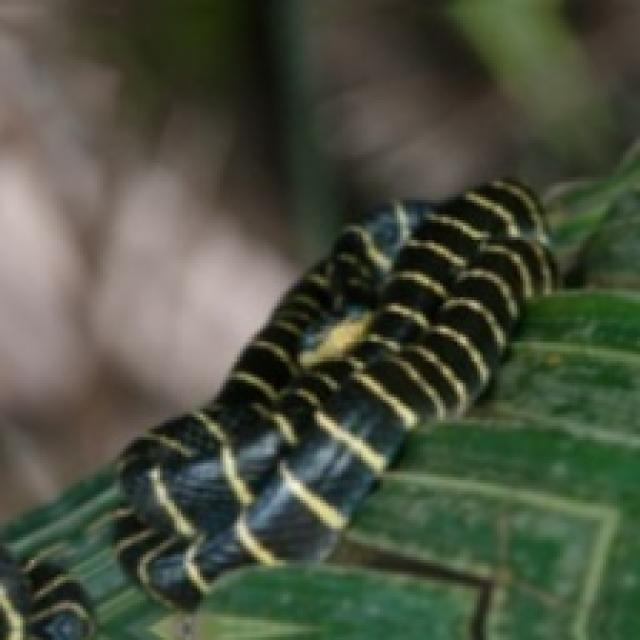mangrove cat snake: (0, 177, 554, 637)
